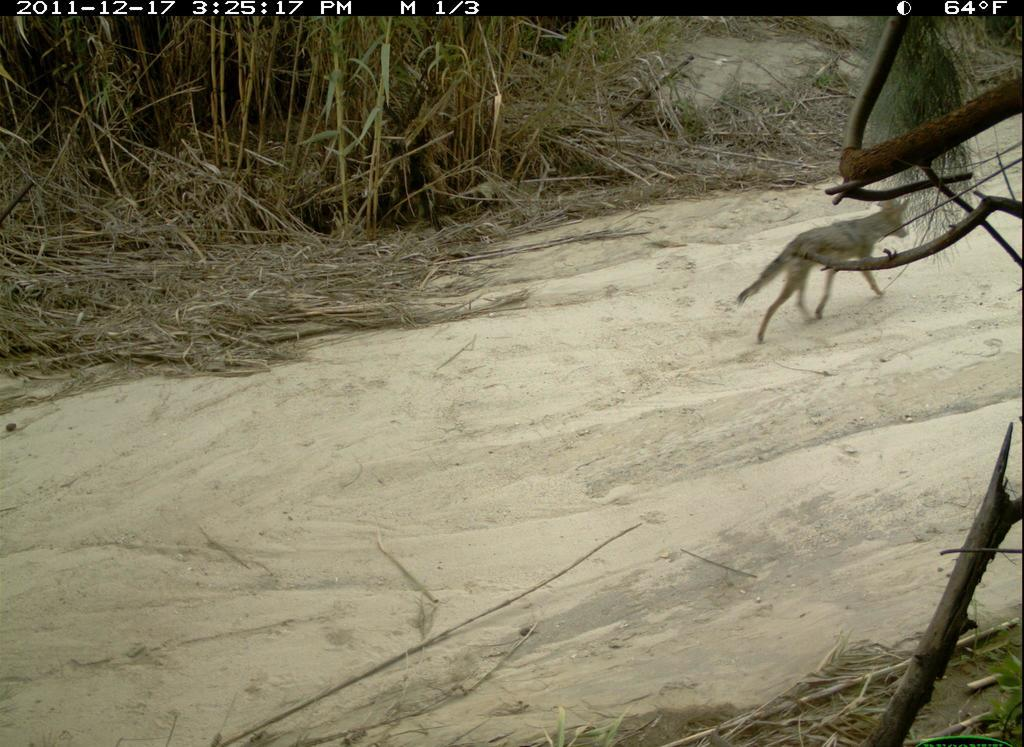coyote: (728, 191, 924, 349)
